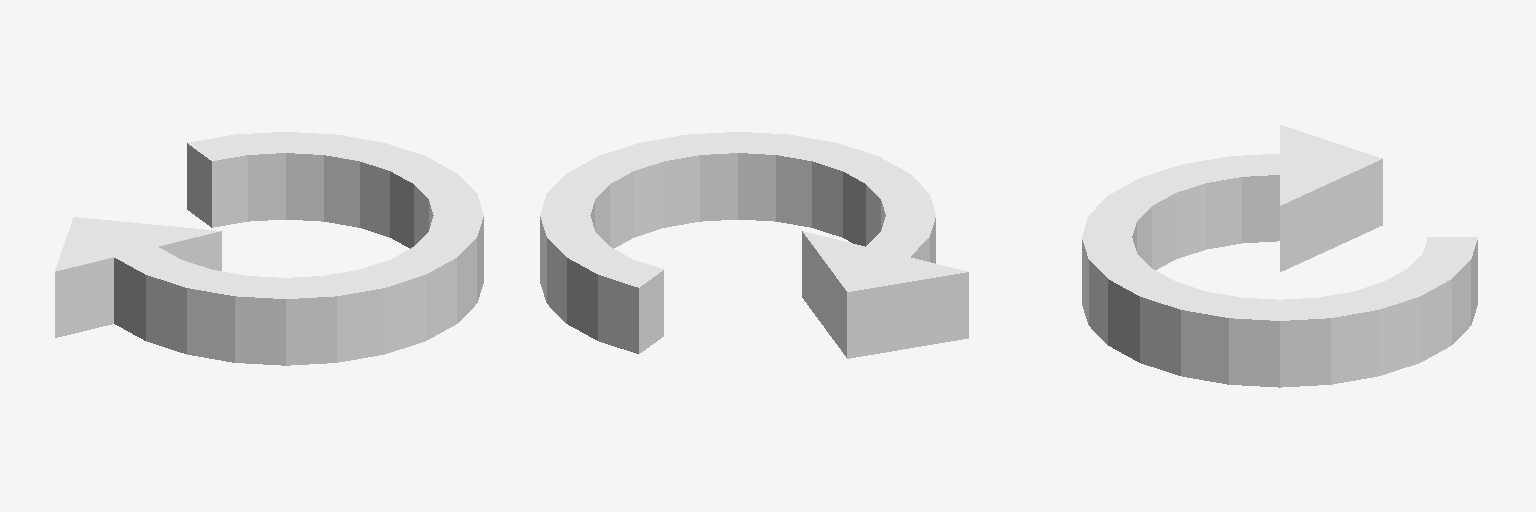
Rendered from arrow.obj.
3 renders of one model, left to right at view 1: azimuth 30°, elevation 25°; view 2: azimuth 150°, elevation 25°; view 3: azimuth 270°, elevation 25°, orthographic.
Visible parts, largest first — view 1: Mesh1 Model; view 2: Mesh1 Model; view 3: Mesh1 Model.
Part boxes in pixels (x1,y1,x2,y2): Mesh1 Model: (55,132,483,365); Mesh1 Model: (540,132,968,358); Mesh1 Model: (1082,125,1477,387).
Bounding box in the file's own units: 9.7 × 1.53 × 8.26.